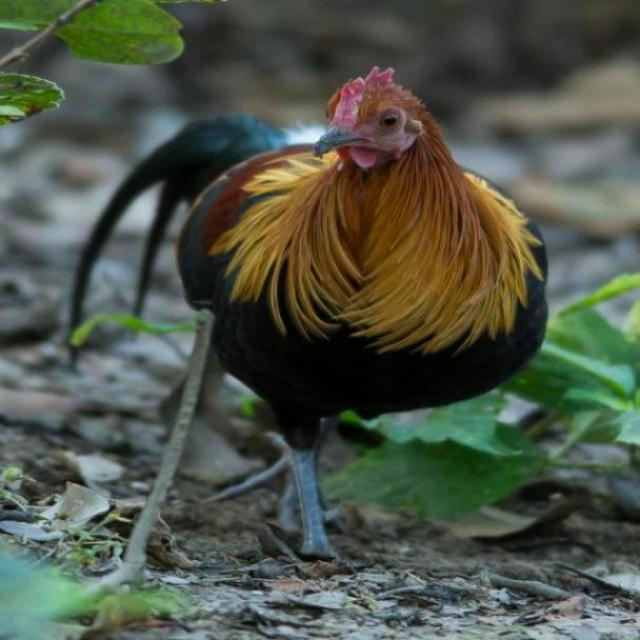Chicken: (148, 62, 551, 585)
